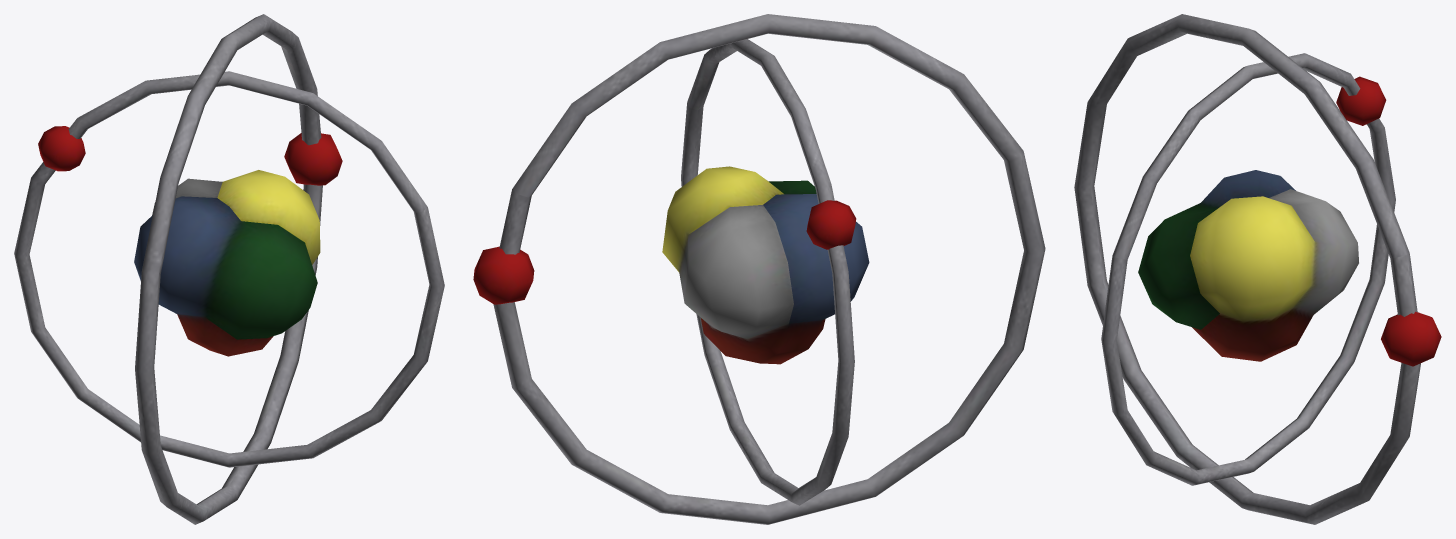
File: infotron_04.obj
3 views of the same model, side by side, from view 1: azimuth 30°, elevation 25°; view 2: azimuth 150°, elevation 25°; view 3: azimuth 270°, elevation 25° (orthographic). The views are drawn at different scales.
Parts seen in each view (by area): view 1: unwrapped2, Object09, Object10, Object12, Object11; view 2: Object09, unwrapped2, Object10, Object12, Object11; view 3: unwrapped2, Object09, Object10, Object12, Object11.
Boxes of the visible parts, bbox=[...] form: unwrapped2: bbox=[134, 170, 320, 356]; Object09: bbox=[135, 14, 322, 524]; Object10: bbox=[14, 71, 444, 467]; Object12: bbox=[284, 133, 342, 185]; Object11: bbox=[38, 126, 85, 171]; Object09: bbox=[493, 14, 1045, 524]; unwrapped2: bbox=[662, 166, 869, 364]; Object10: bbox=[681, 39, 854, 505]; Object12: bbox=[473, 246, 534, 304]; Object11: bbox=[806, 200, 856, 249]; unwrapped2: bbox=[1138, 170, 1358, 361]; Object09: bbox=[1074, 14, 1420, 524]; Object10: bbox=[1101, 53, 1395, 485]; Object12: bbox=[1381, 311, 1441, 366]; Object11: bbox=[1336, 76, 1386, 125].
Size of the model in its own units: 28.52 by 35.32 by 24.39.
Materials: 1 (1 with a texture image).
